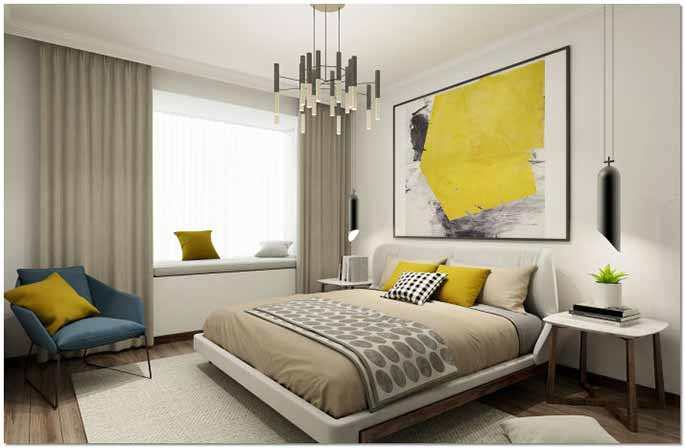床: (195, 294, 539, 427)
枕头: (376, 259, 535, 312), (12, 274, 105, 333), (172, 227, 225, 265), (253, 238, 294, 260)
灯: (268, 8, 381, 137), (600, 4, 620, 256), (344, 187, 365, 246)
